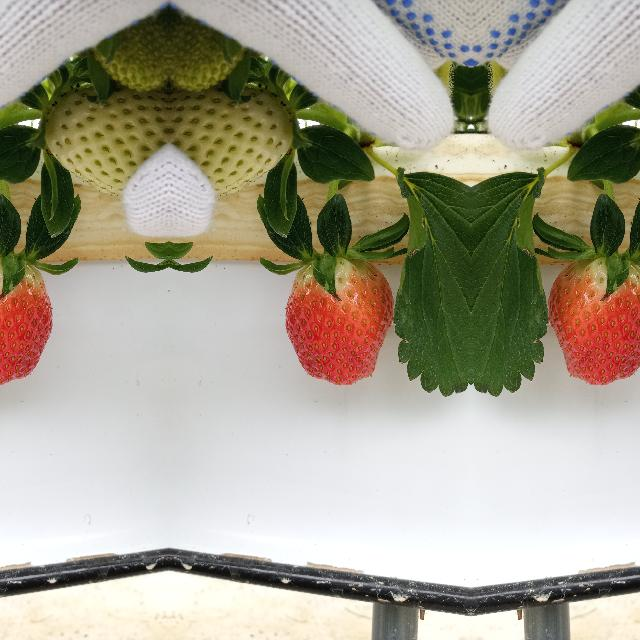Health_100: (282, 257, 393, 385), (547, 257, 640, 385), (0, 257, 53, 385)
Health_25: (168, 96, 302, 184), (34, 96, 168, 184), (168, 2, 252, 90), (84, 2, 168, 90)
